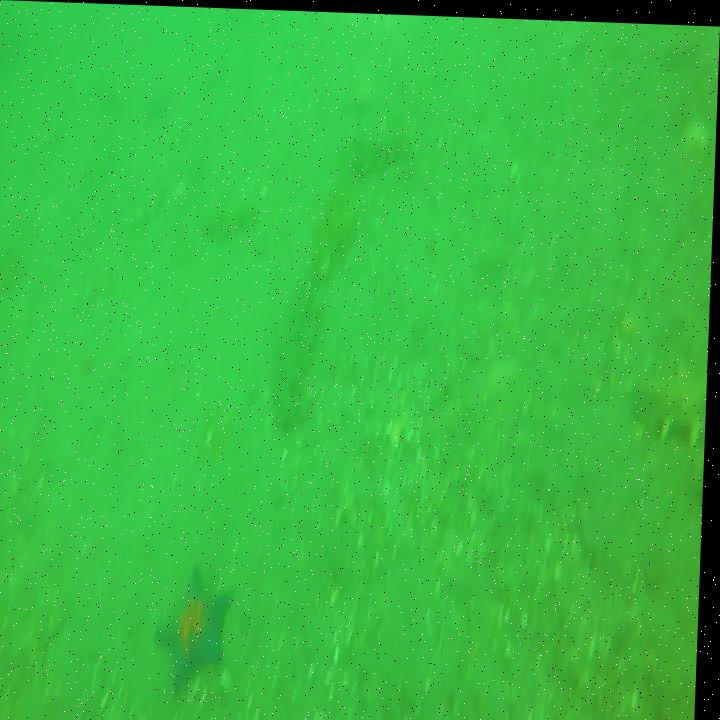holothurian: (275, 276, 323, 430), (638, 365, 710, 437), (321, 171, 362, 284), (208, 181, 263, 239), (348, 131, 413, 179)
starfish: (157, 564, 233, 693)
